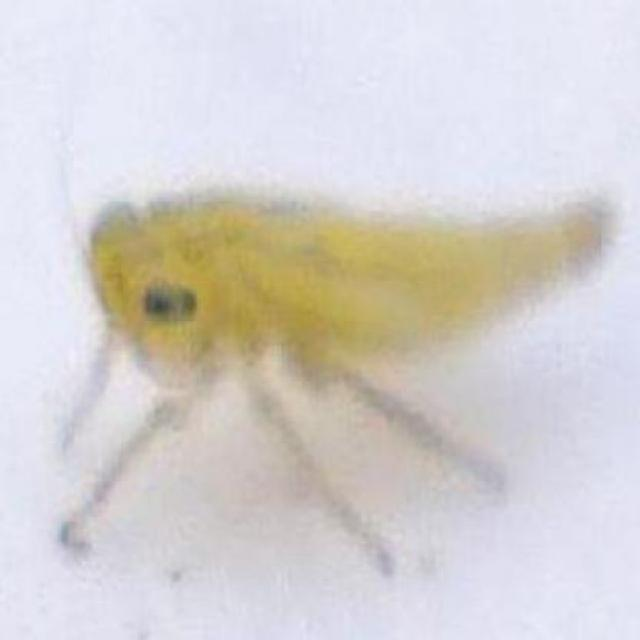green-leafhopper: (83, 190, 617, 436)
